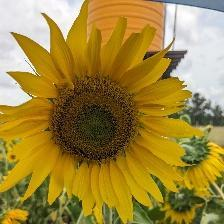sunflower: (15, 35, 187, 205), (175, 134, 224, 189), (164, 194, 206, 224), (2, 203, 31, 224), (5, 148, 23, 165)
